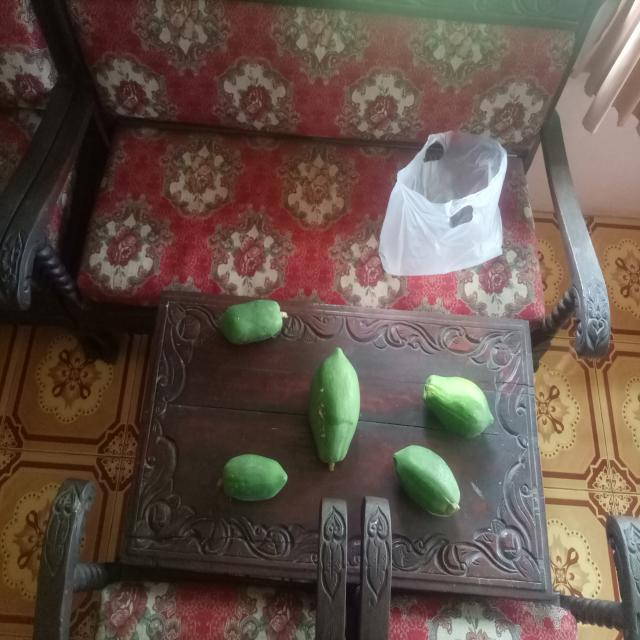Pepaya unrippen: (416, 366, 510, 435), (388, 438, 466, 520), (308, 352, 358, 476), (218, 294, 292, 346), (219, 450, 294, 501)
